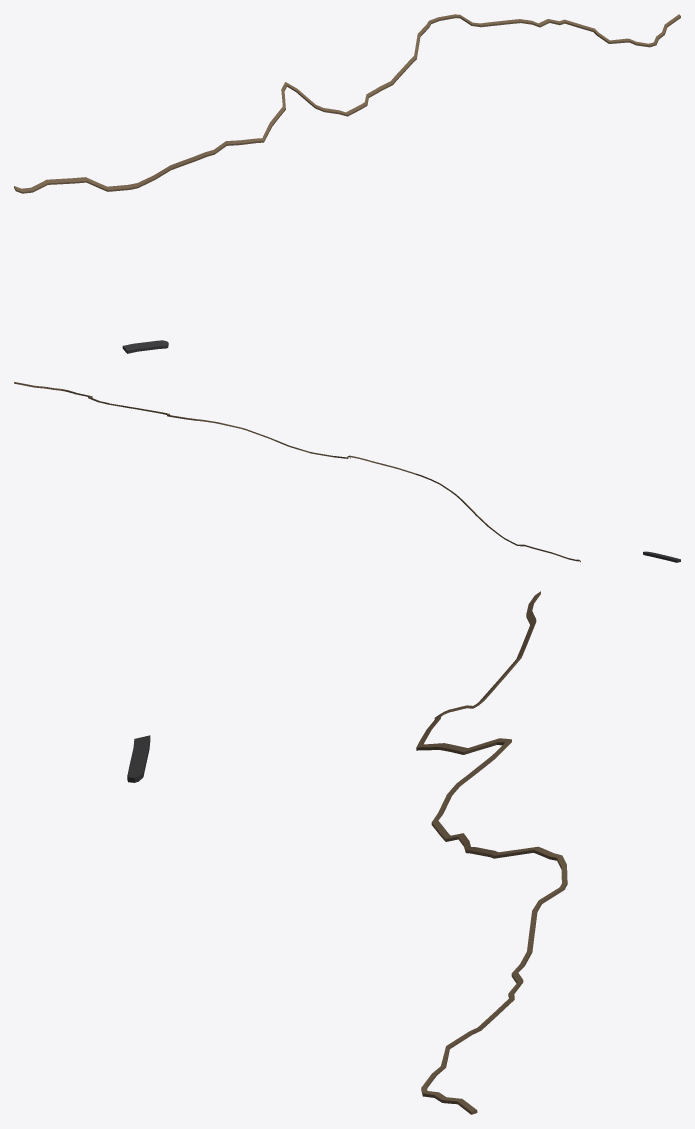
3 renders of one model, top to bottom at view 1: azimuth 30°, elevation 25°; view 2: azimuth 150°, elevation 25°; view 3: azimuth 270°, elevation 25°, orthographic. The views are drawn at different scales.
Bounding box in the file's own units: 293 × 62.98 × 96.16.
